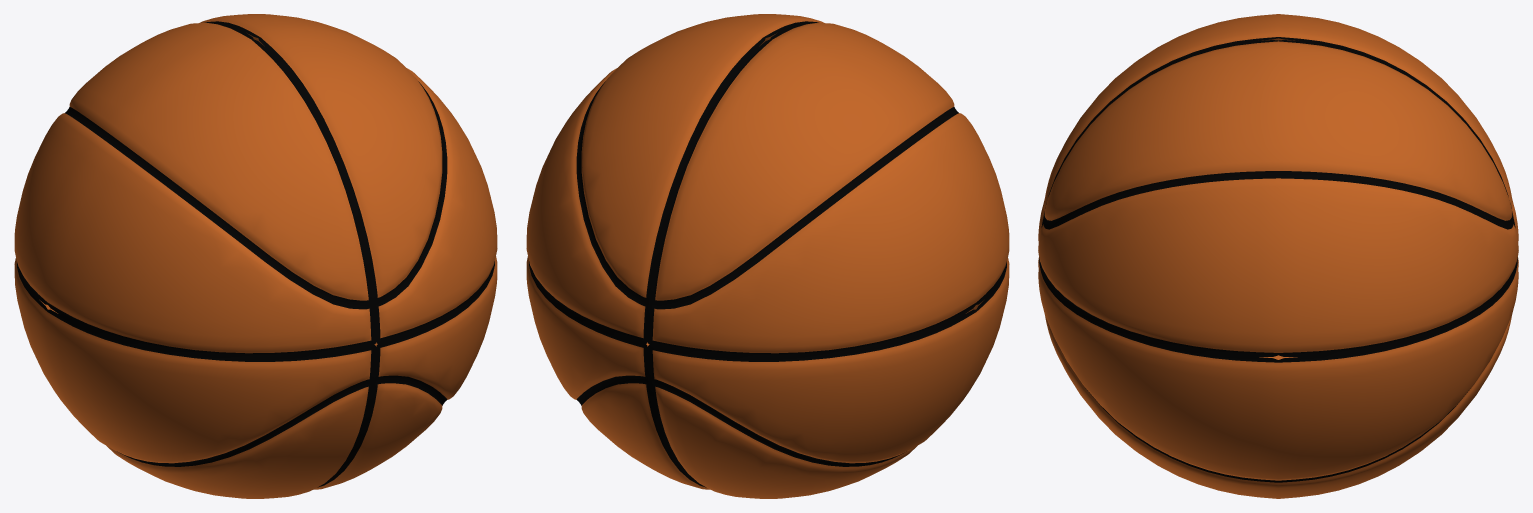
Rendered from BasketBall.fbx.
The picture shows the model from 3 angles, left to right: view 1: azimuth 30°, elevation 25°; view 2: azimuth 150°, elevation 25°; view 3: azimuth 270°, elevation 25°; orthographic projection.
Visible parts, largest first — view 1: BasketBall; view 2: BasketBall; view 3: BasketBall.
Boxes of the visible parts, x1,y1,x2,y2 form: BasketBall: [14, 14, 497, 498]; BasketBall: [526, 14, 1009, 498]; BasketBall: [1038, 14, 1518, 498].
Bounding box in the file's own units: 199 × 199 × 197.
